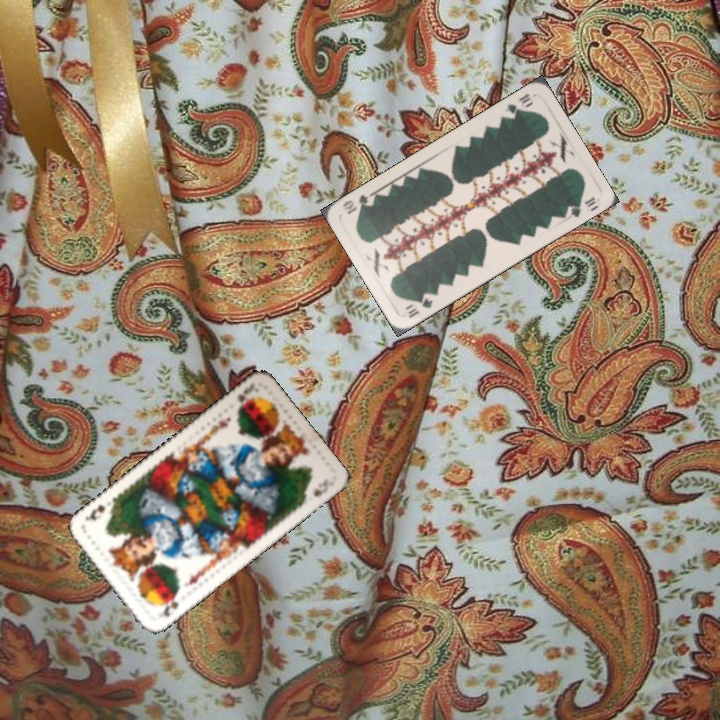G10: (501, 89, 536, 118), (404, 293, 435, 321)
SK: (154, 590, 182, 620), (232, 379, 255, 414)
